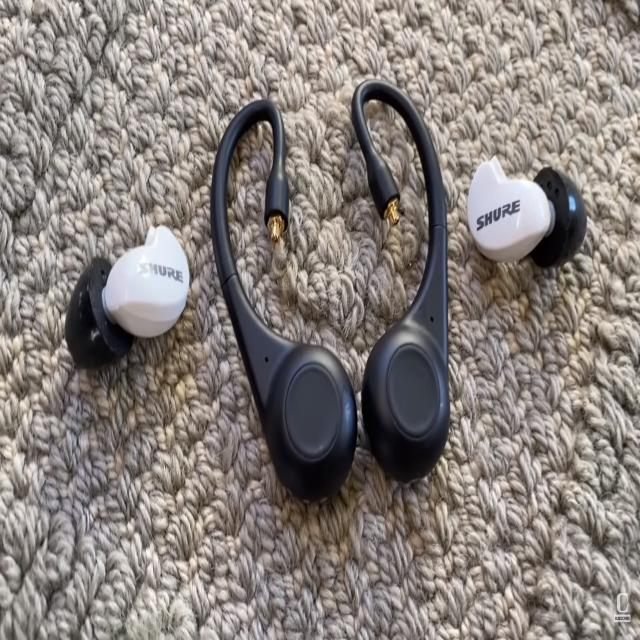airpods: (57, 69, 578, 496)
